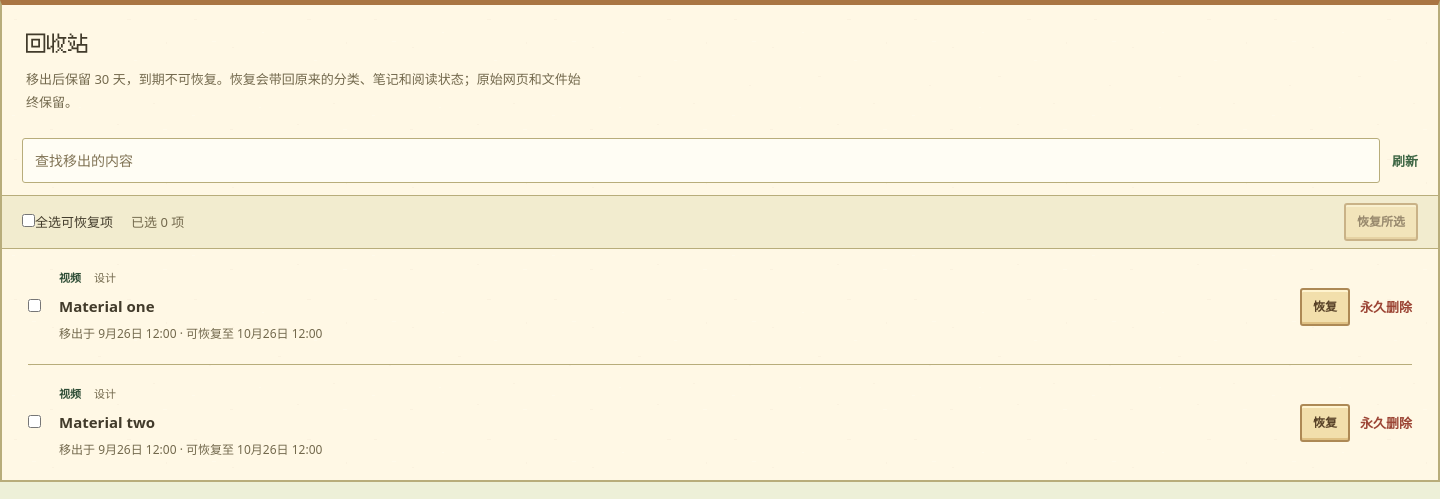
Test: reading recycle bin › restores a reviewed selection and leaves other records intact
Step 1. Click the checkbox named "恢复选择：Material one" → (34, 306), box [28, 299, 41, 312]
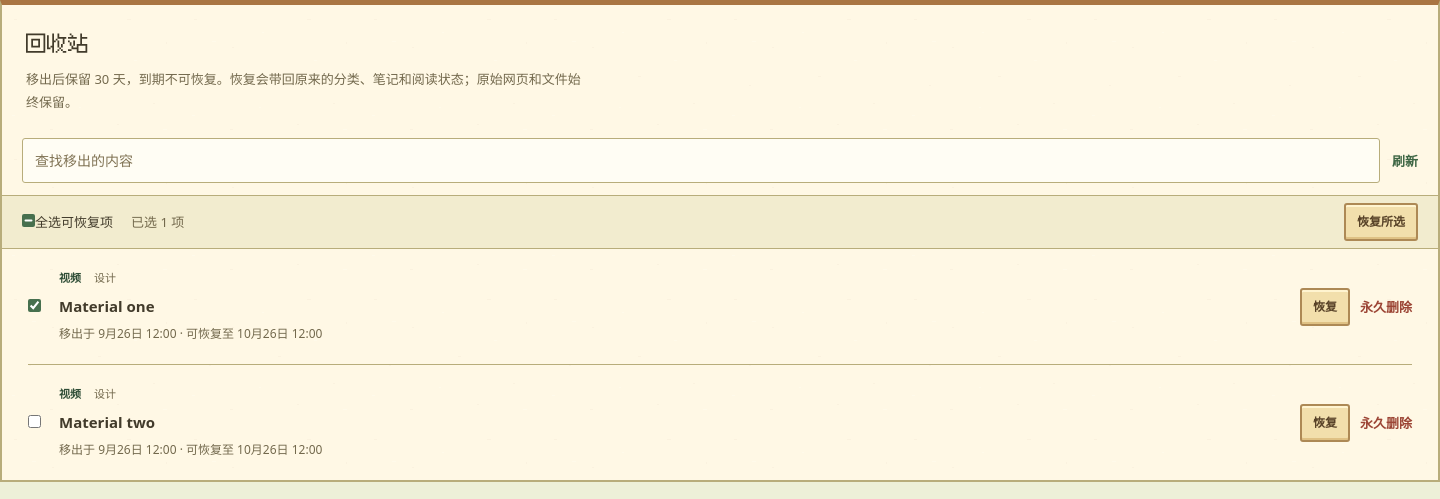
Step 2. Click the button "恢复所选" → (1381, 222), box [1344, 203, 1418, 241]
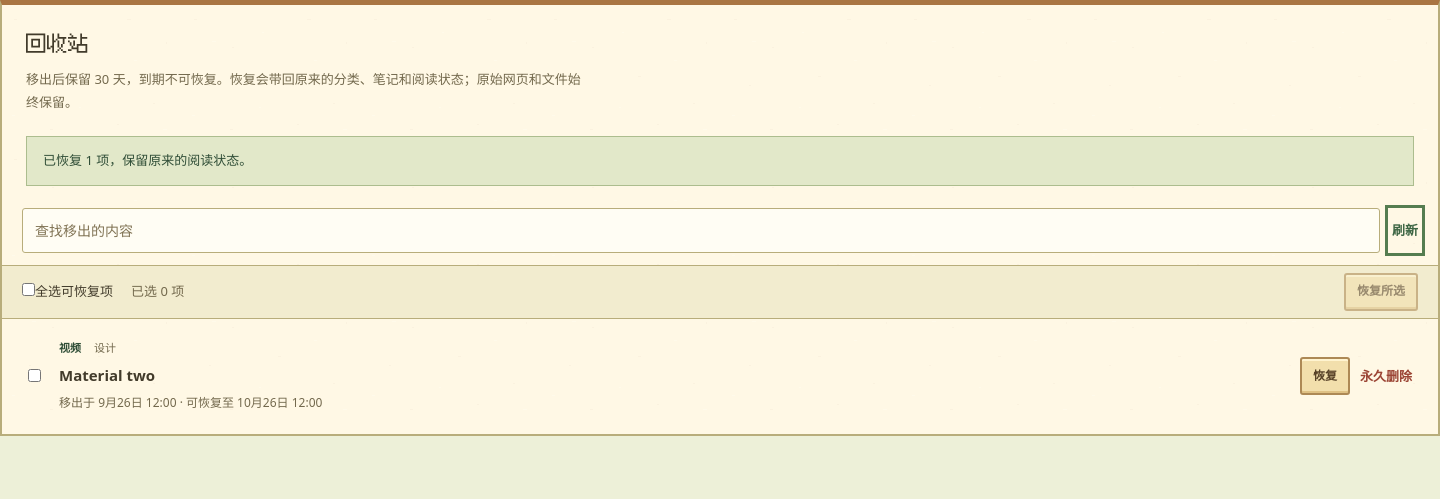
Expected: the text "Material two" is shown, [59, 365, 155, 385]
Result: the text "Material one" is gone
Result: the text "保留原来的阅读状态" is shown at [43, 151, 252, 169]
